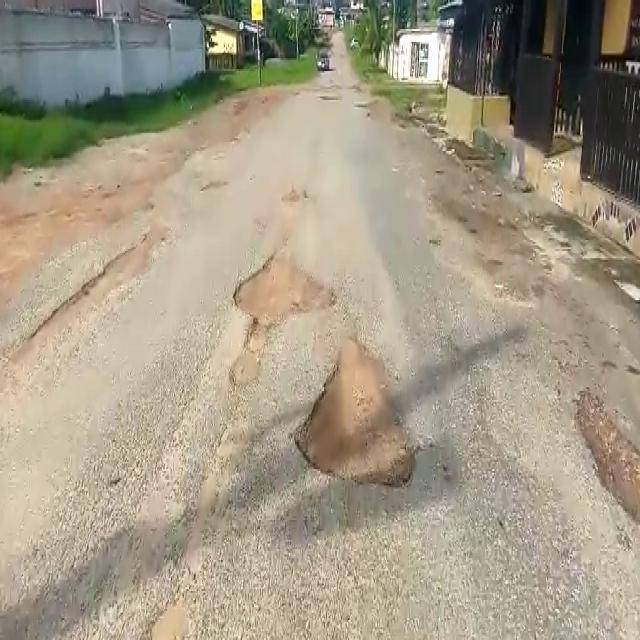pothole: (285, 343, 429, 495), (230, 253, 345, 343), (571, 382, 640, 525)
